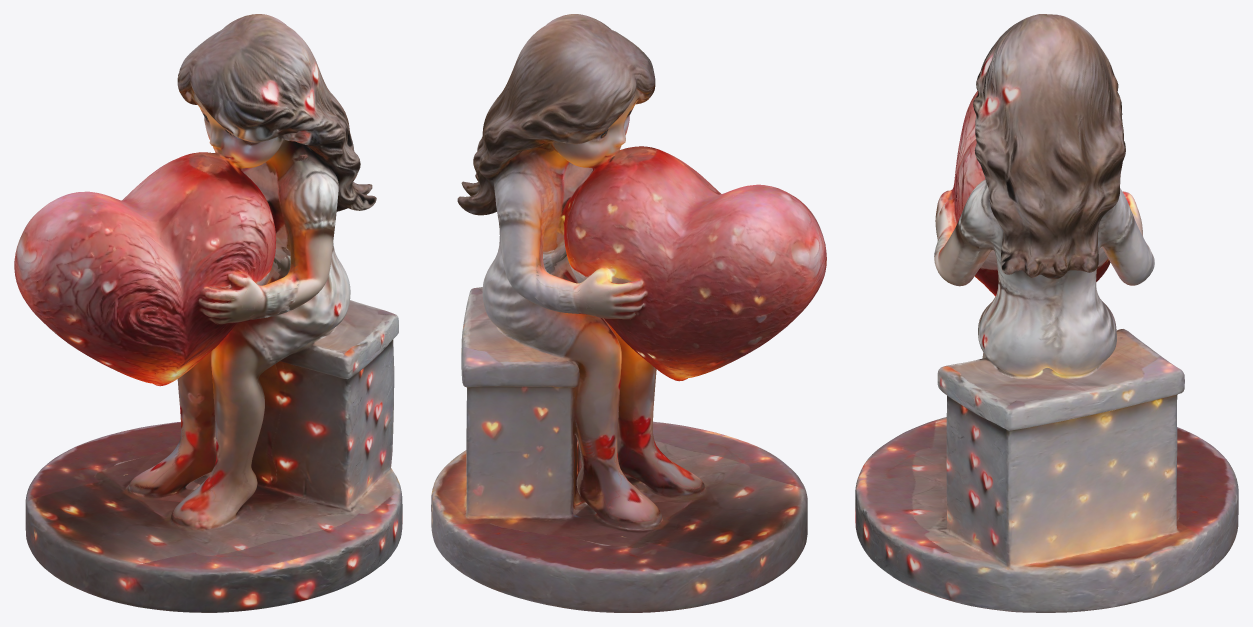
The model's file is zth.glb.
3 renders of one model, left to right at view 1: azimuth 30°, elevation 25°; view 2: azimuth 150°, elevation 25°; view 3: azimuth 270°, elevation 25°, orthographic. The views are drawn at different scales.
Visible parts, largest first — view 1: Mesh_0_Material_0_0; view 2: Mesh_0_Material_0_0; view 3: Mesh_0_Material_0_0.
Part boxes in pixels (box(x1,y1,x2,y2)): Mesh_0_Material_0_0: box(14, 14, 402, 612); Mesh_0_Material_0_0: box(431, 14, 826, 612); Mesh_0_Material_0_0: box(855, 14, 1238, 612).
Size of the model in its own units: 1.47 by 2 by 1.29.
Materials: 1 (1 with a texture image).
